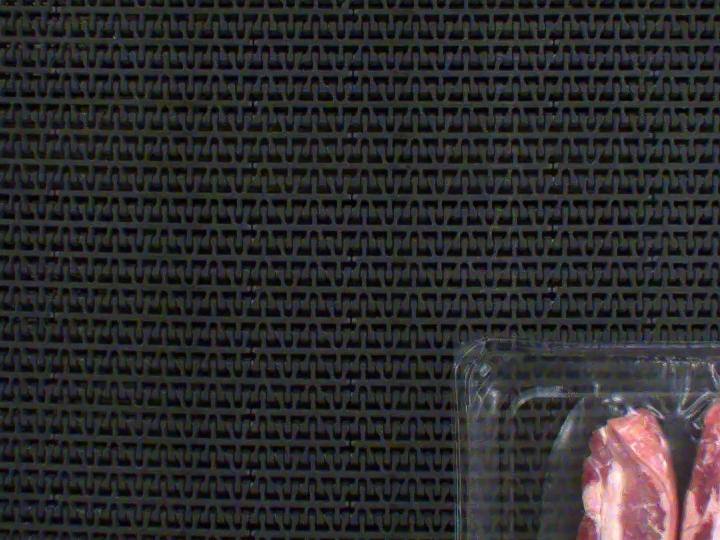unsealed: (510, 323, 720, 540)
